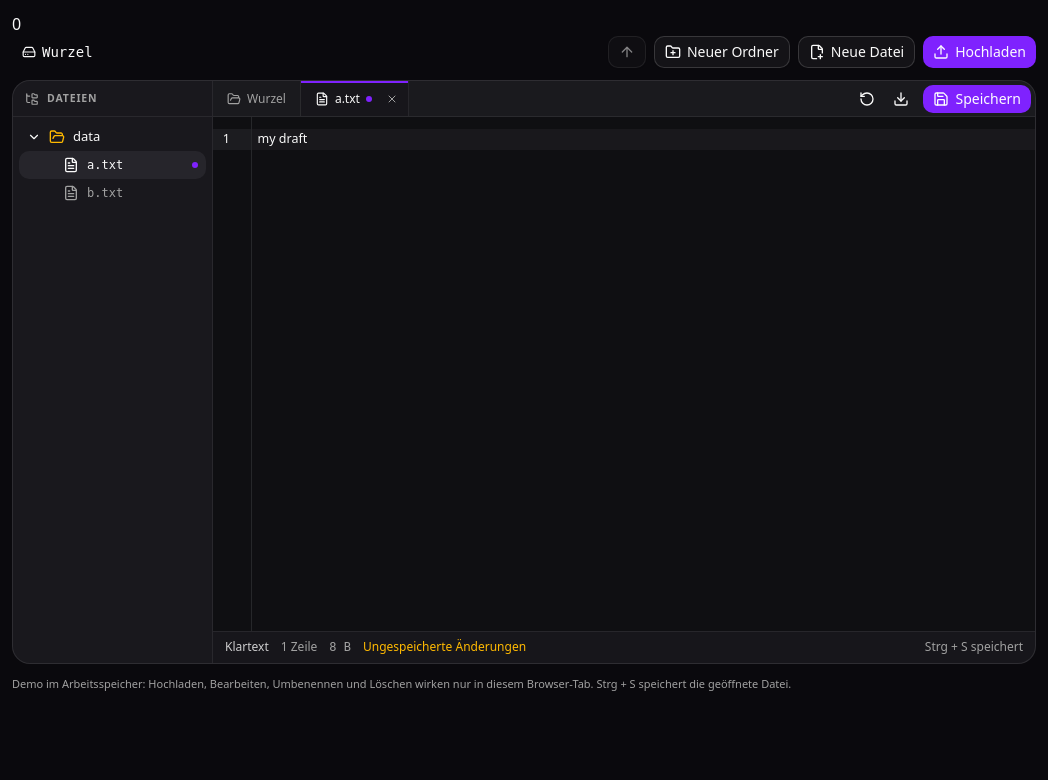
Test case: workspace lifecycle: late responses, unsaved navigation, conflicts and retry › reloads the tree on conflict and keeps text until explicit discard
Check: the field named "Inhalt von a.txt" is shown, box [252,129,1035,150]
Click the button "Speichern" at (977, 98), box [924,84,1031,112]
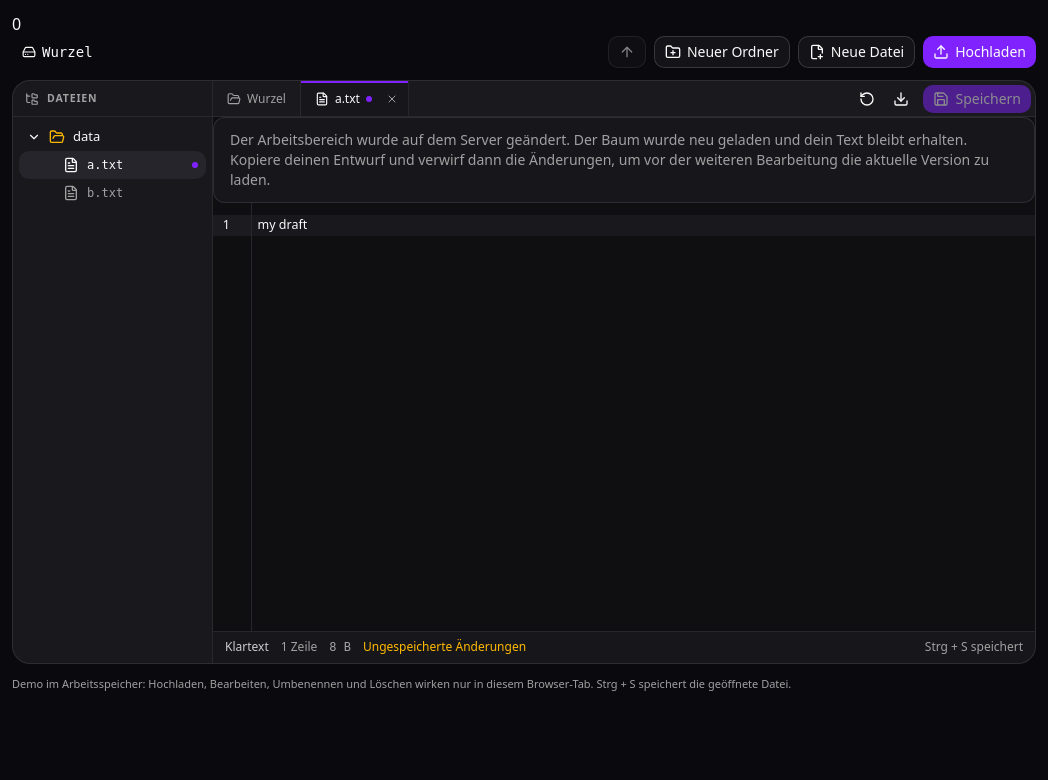
Check: the field named "Inhalt von a.txt" reads "my draft", box [252,215,1035,236]
Check: the message is shown, box [213,117,1035,203]
Check: the button "Speichern" is disabled, box [924,84,1031,112]
Click the button named "Änderungen verwerfen" at (868, 98), box [852,82,884,114]
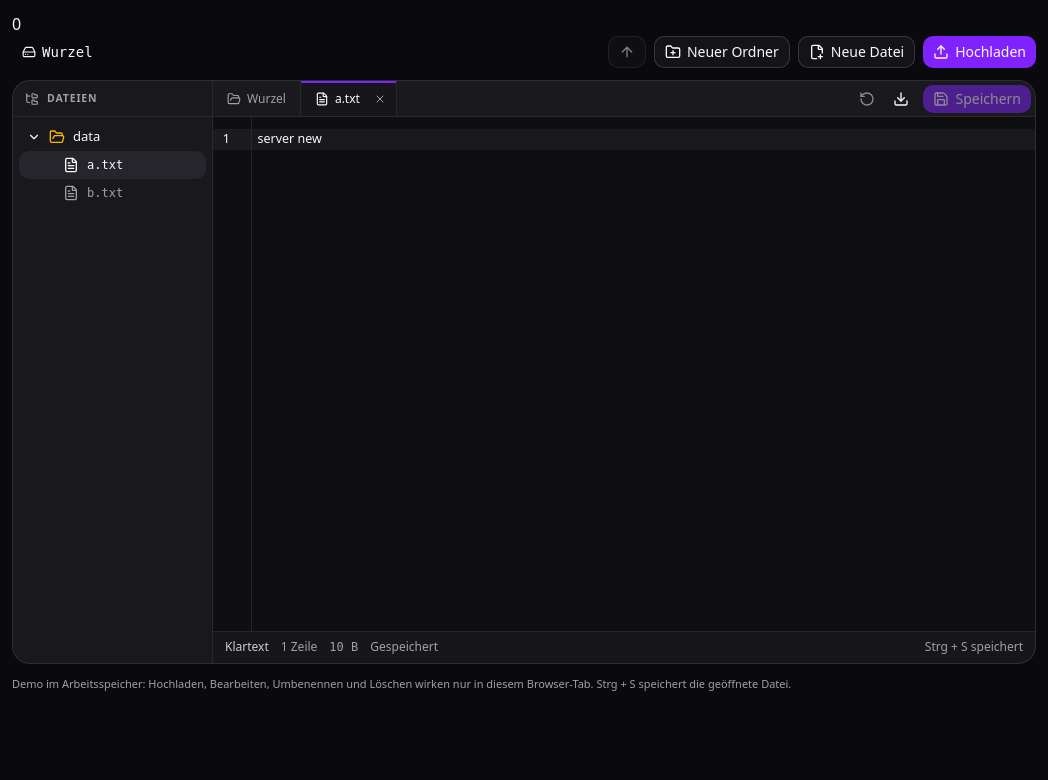
Check: the field named "Inhalt von a.txt" reads "server new", box [252,129,1035,150]
